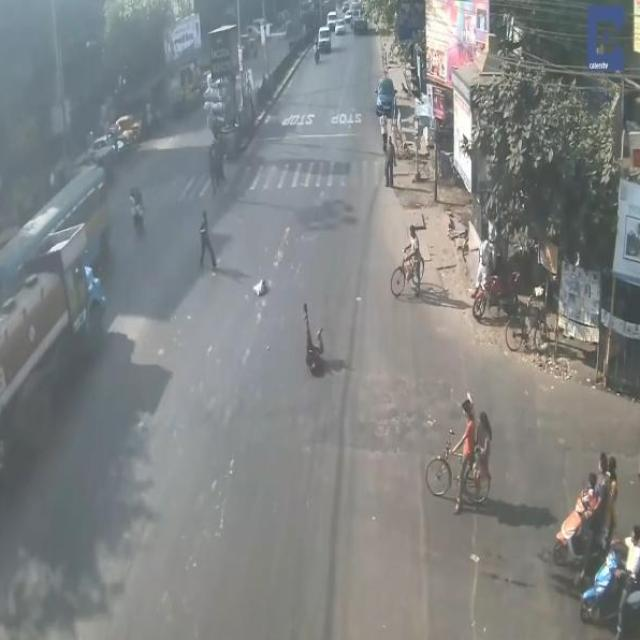accident: (295, 305, 341, 383)
